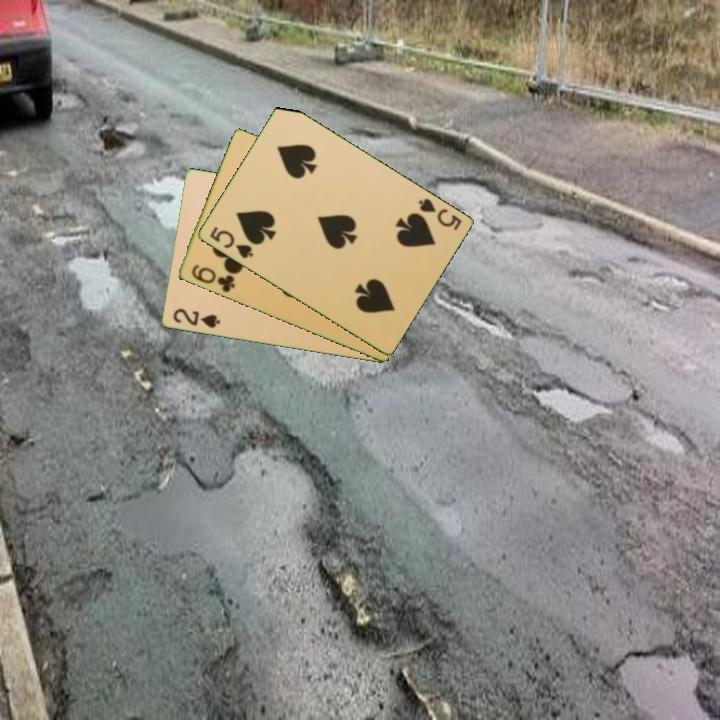2s: (169, 305, 223, 331)
5s: (206, 223, 256, 262), (414, 195, 464, 233)
6c: (188, 261, 238, 296)
